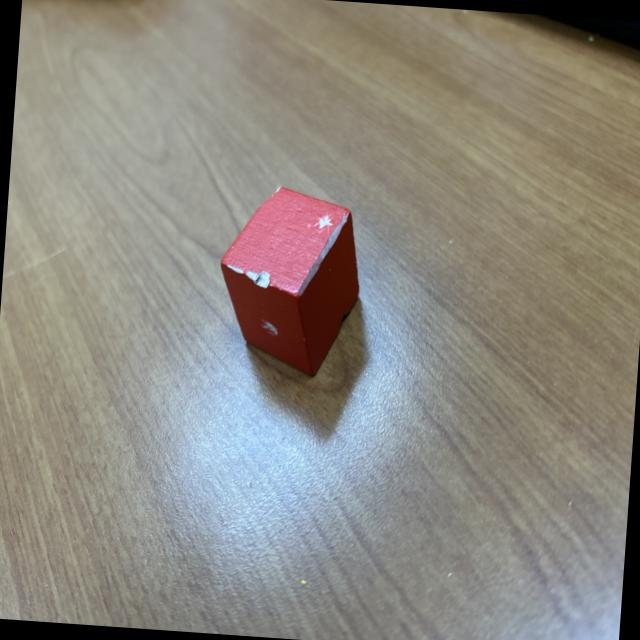broken: (212, 182, 366, 381)
